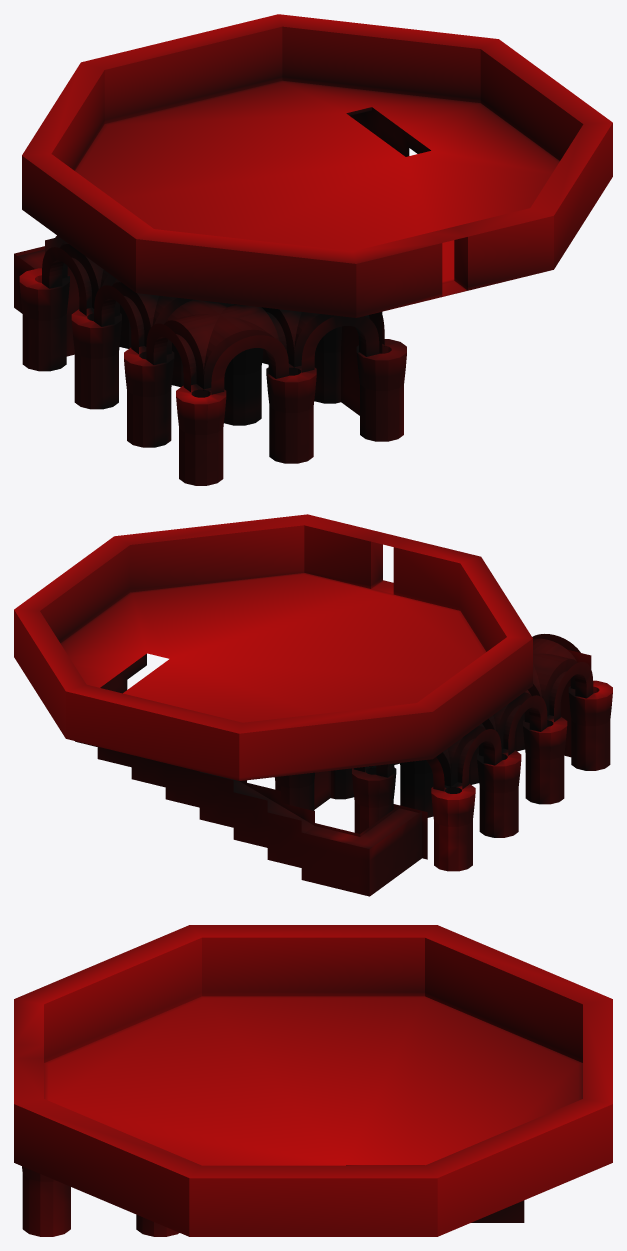
The model's file is mountain_base.obj.
3 renders of one model, top to bottom at view 1: azimuth 30°, elevation 25°; view 2: azimuth 150°, elevation 25°; view 3: azimuth 270°, elevation 25°, orthographic. The views are drawn at different scales.
Parts seen in each view (by area): view 1: Surface, BasementPillars, BasementCeilng, BasementWall, StairWall; view 2: Surface, BasementPillars, StairWall, BasementCeilng, StairCeiling, BasementWall; view 3: Surface, BasementPillars, StairWall.
Part boxes in pixels (x1,y1,x2,y2): Surface: (22,14,612,317); BasementPillars: (19,268,406,485); BasementCeilng: (42,235,384,394); BasementWall: (45,237,382,415); StairWall: (14,107,430,313); Surface: (14,514,532,780); BasementPillars: (274,680,612,871); StairWall: (75,654,421,896); BasementCeilng: (353,634,593,791); StairCeiling: (200,771,418,848); BasementWall: (314,649,591,859); Surface: (14,925,612,1236); BasementPillars: (22,1166,179,1236); StairWall: (346,1165,524,1222).
Size of the model in its own units: 38.67 by 14.02 by 36.96.
